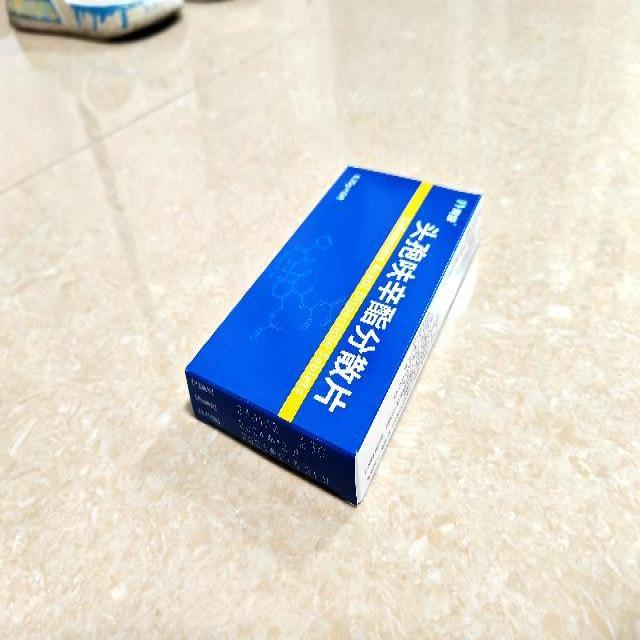box: (184, 162, 482, 505)
